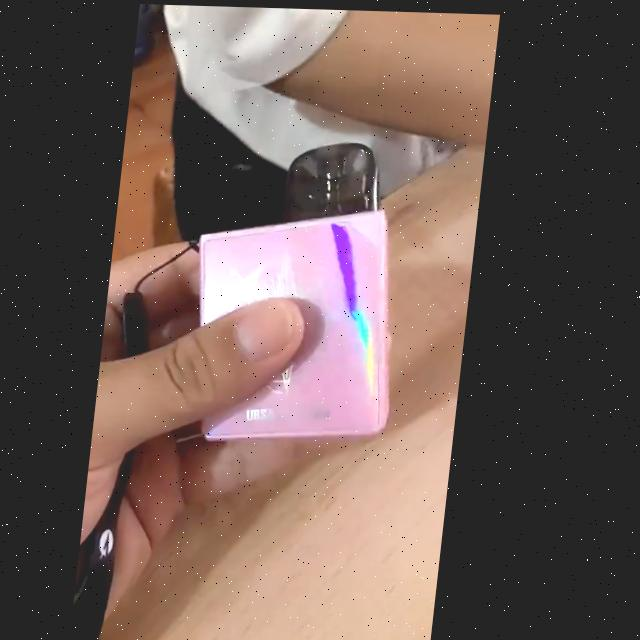vape: (186, 132, 425, 440)
